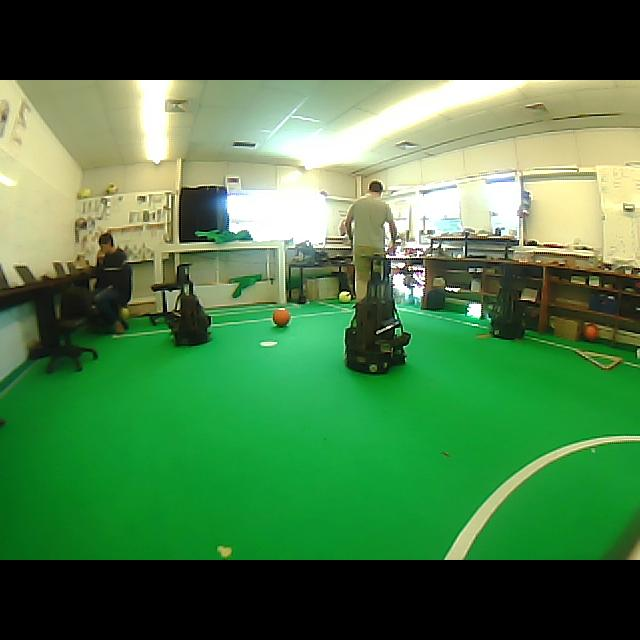ball: (273, 308, 290, 327), (584, 324, 599, 341), (119, 307, 129, 329), (78, 188, 92, 199), (338, 291, 351, 302), (105, 184, 119, 194)
goal: (278, 241, 286, 304)
robot: (345, 256, 410, 373), (169, 264, 211, 345), (491, 266, 524, 338)
